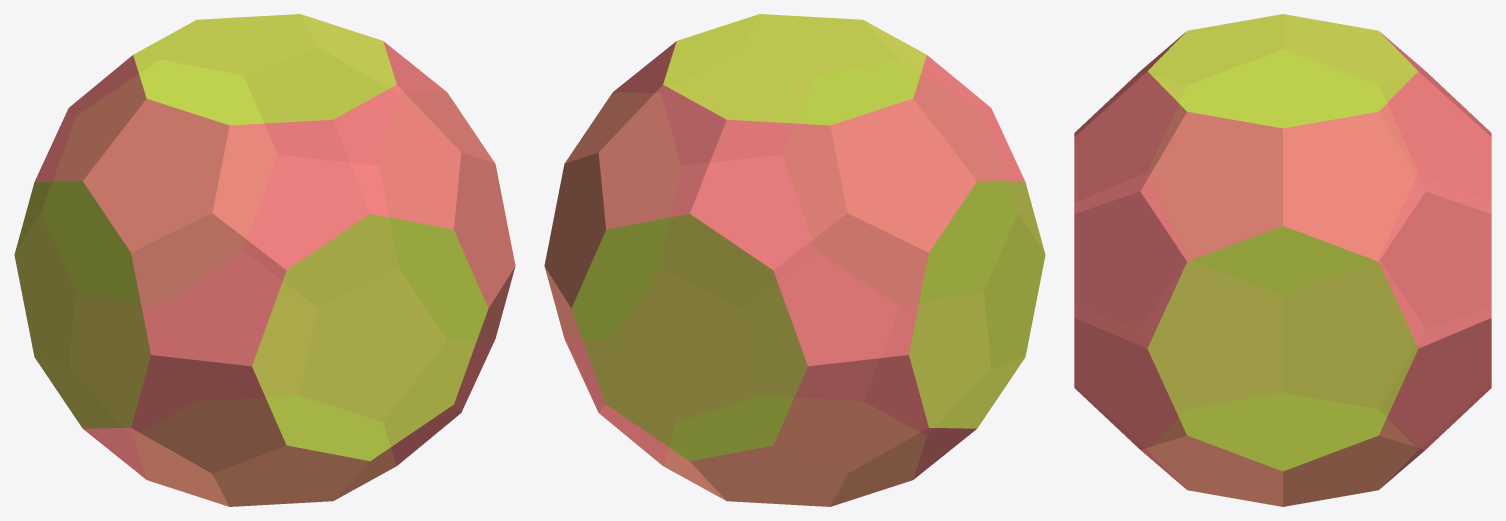
Rendered from TruncatedTriakisOctahedron.obj.
3 renders of one model, left to right at view 1: azimuth 30°, elevation 25°; view 2: azimuth 150°, elevation 25°; view 3: azimuth 270°, elevation 25°, orthographic.
Size of the model in its own units: 4.03 by 4.03 by 4.03.
